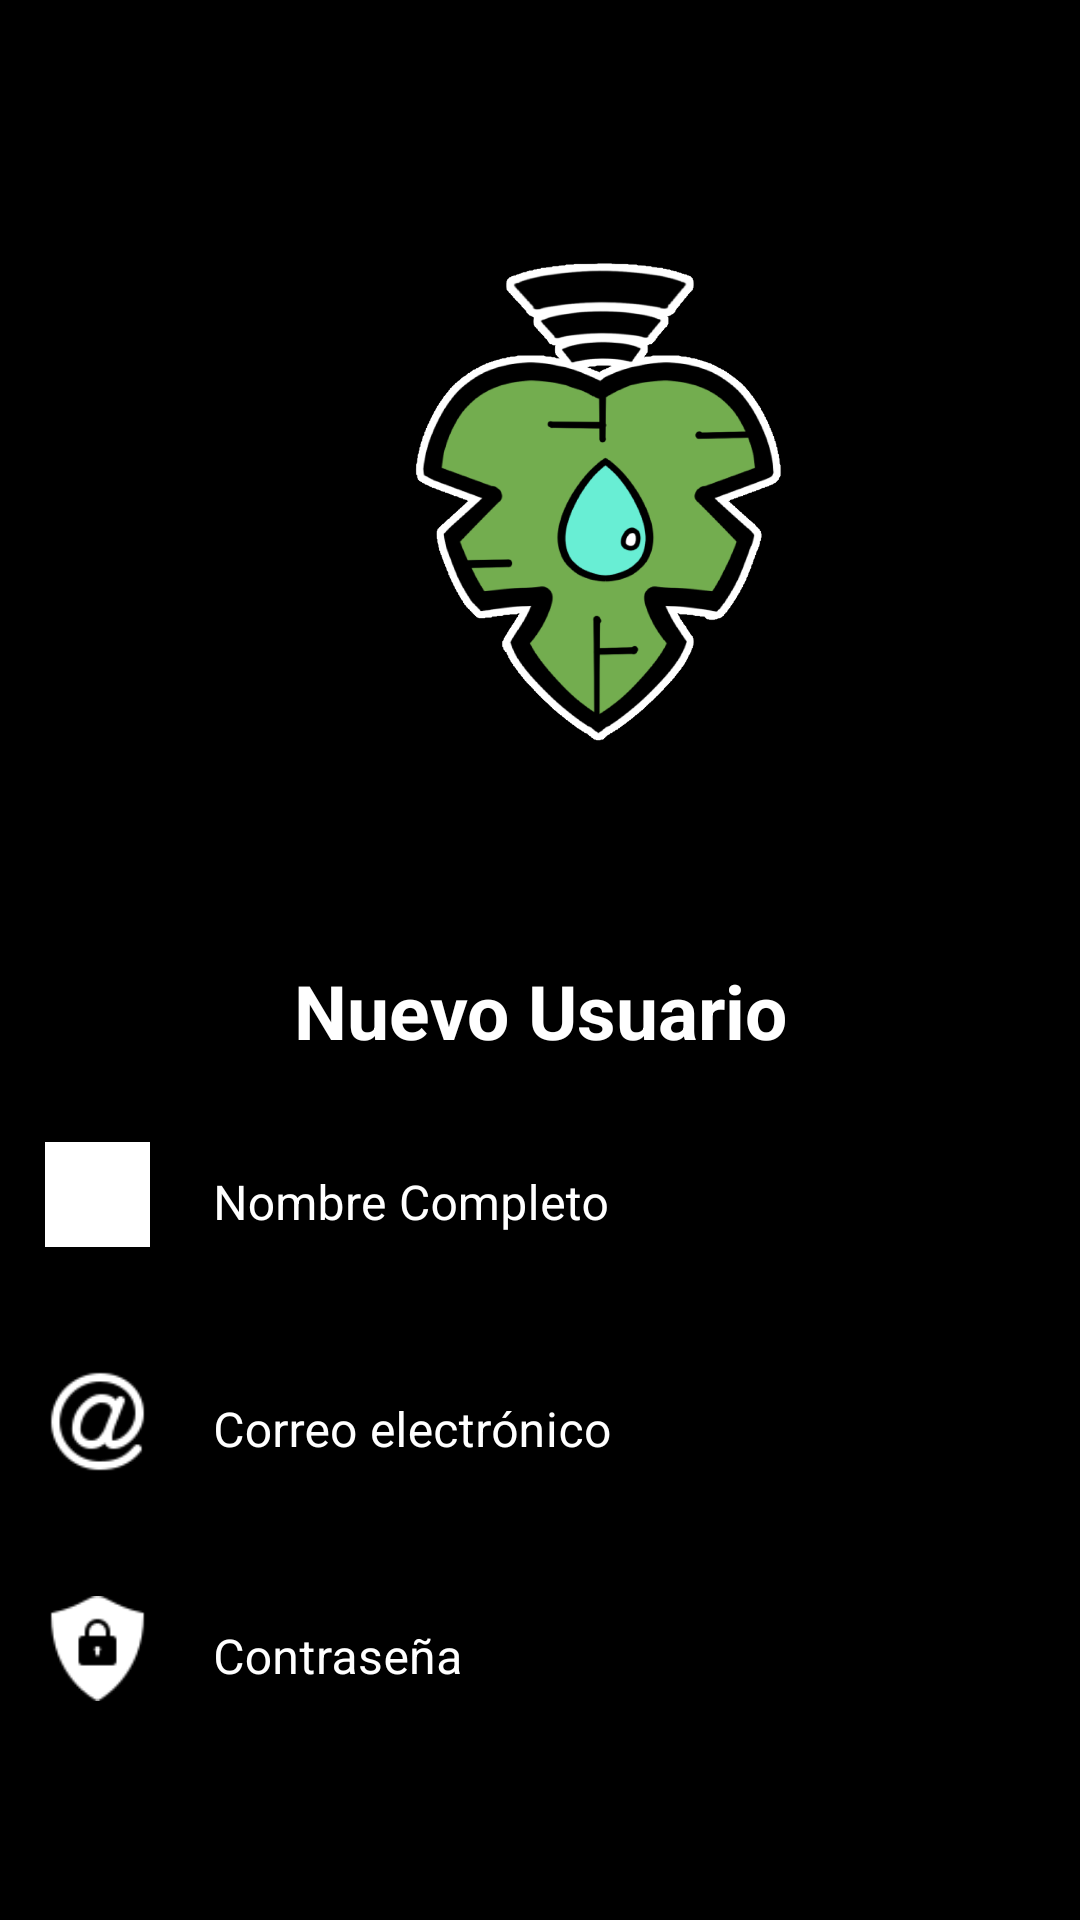

Where icons sit on this 1080px x 1920px app screen, as (x1, y1, x2, y2):
email: (50, 1372, 145, 1471)
password: (50, 1596, 145, 1701)
